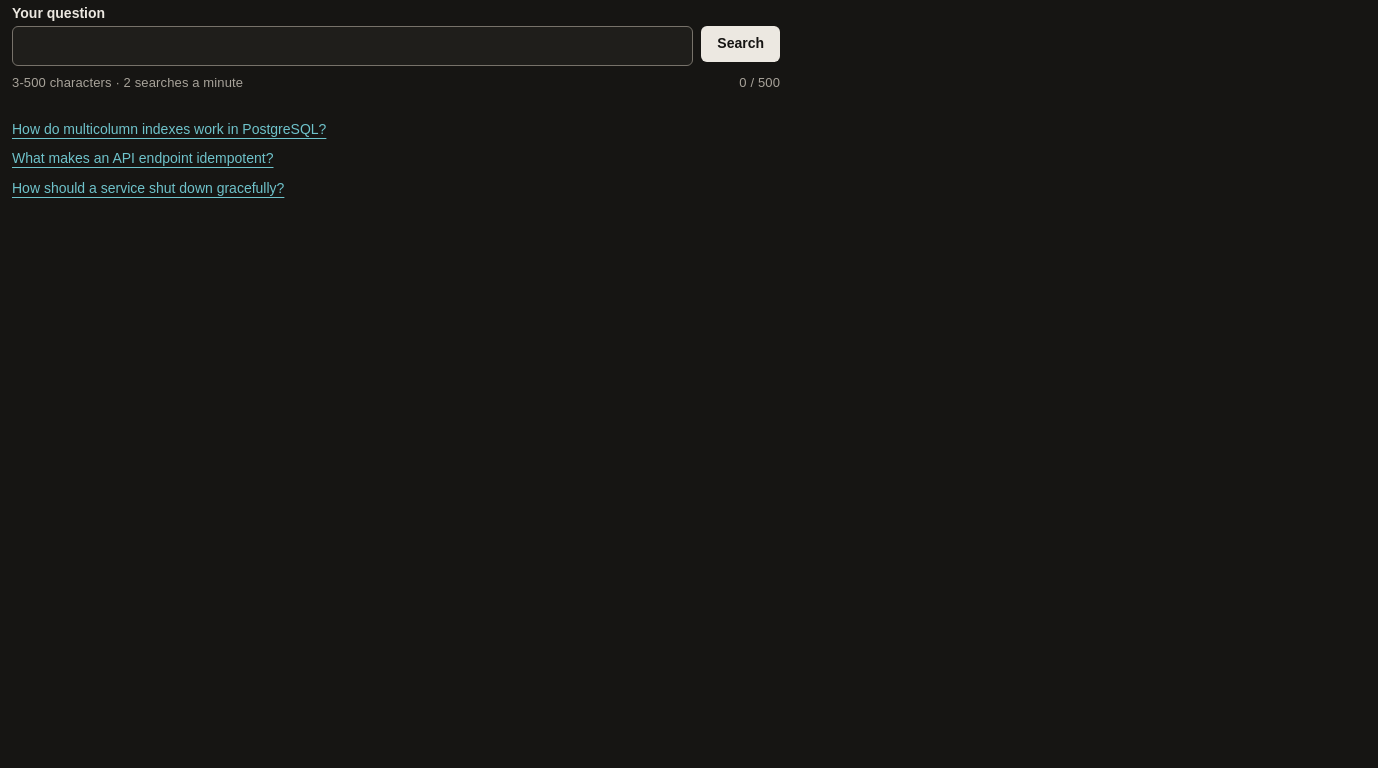
Scenario: limits and off › 429: previous results stay, the wait ticks, Search is disabled until 0, then it says so
This screenshot has width=1378, height=768.
Later steps or results of the test are not shown.
In the search field labelled "Your question": [353, 46] box 12,26 -> 693,66, type "What is a multicolumn index?"
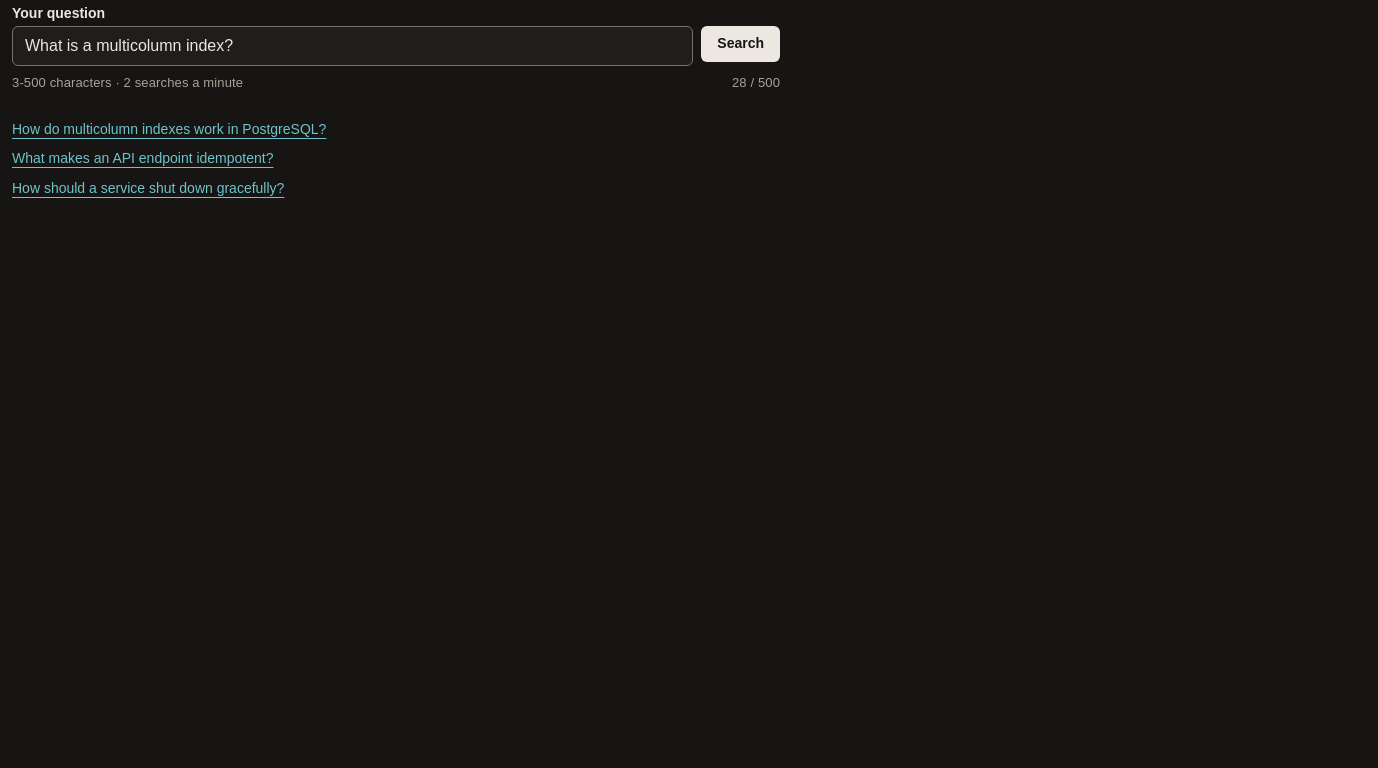
Click the button "Search": [741, 44] box 701,26 -> 780,62
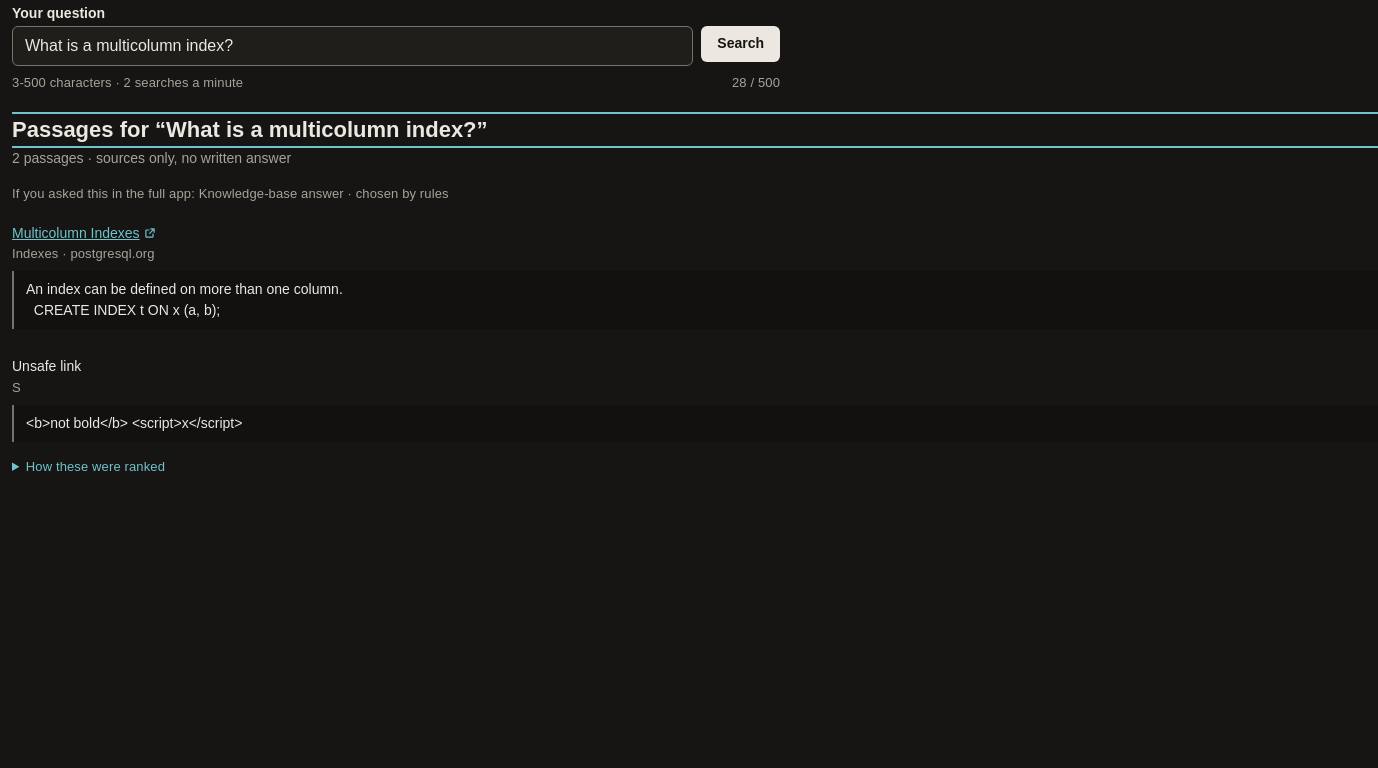
Check: the heading "Passages for “What is a multicolumn index?”" is shown, box 12,117 -> 488,142
Replace the text in the search field labelled "Your question" with "another question": [353, 46] box 12,26 -> 693,66
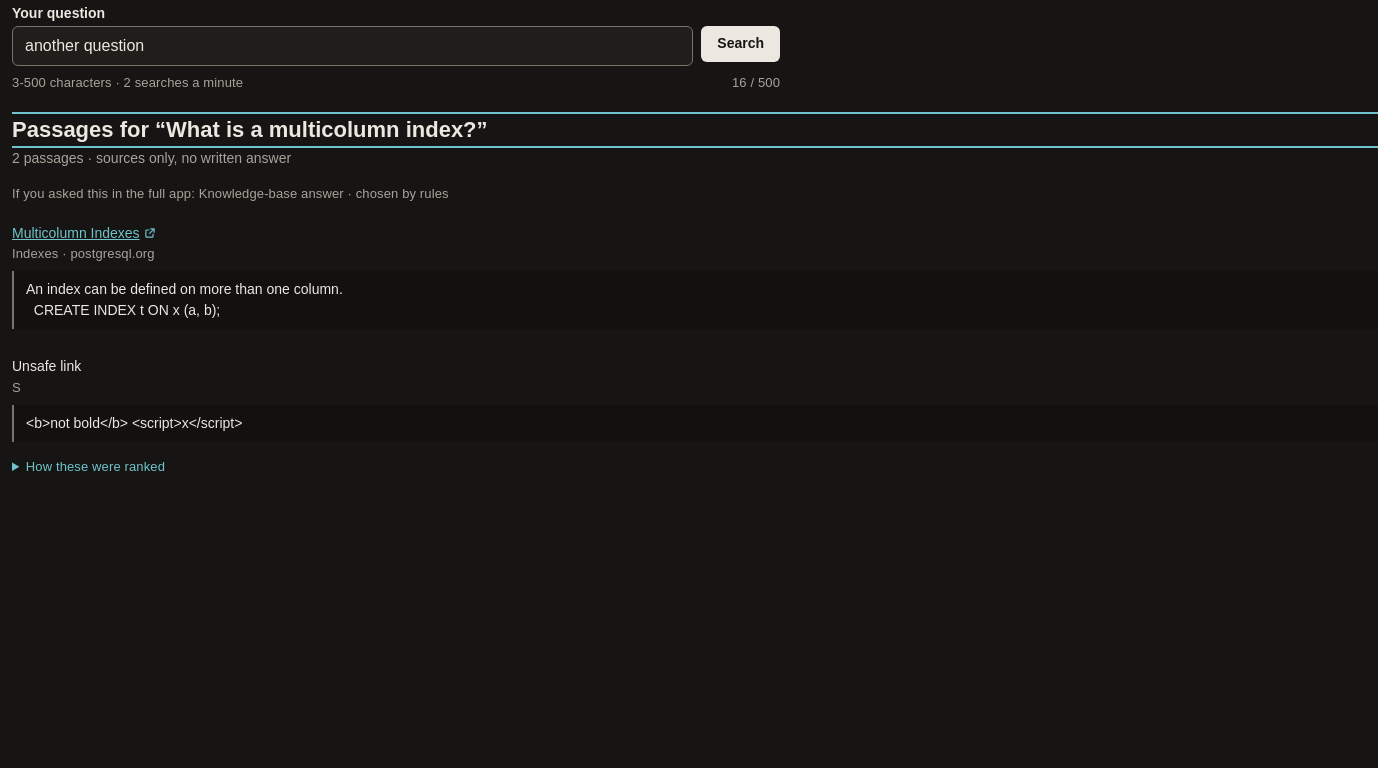
Click the button "Search": [741, 44] box 701,26 -> 780,62
Wait 3000 ms
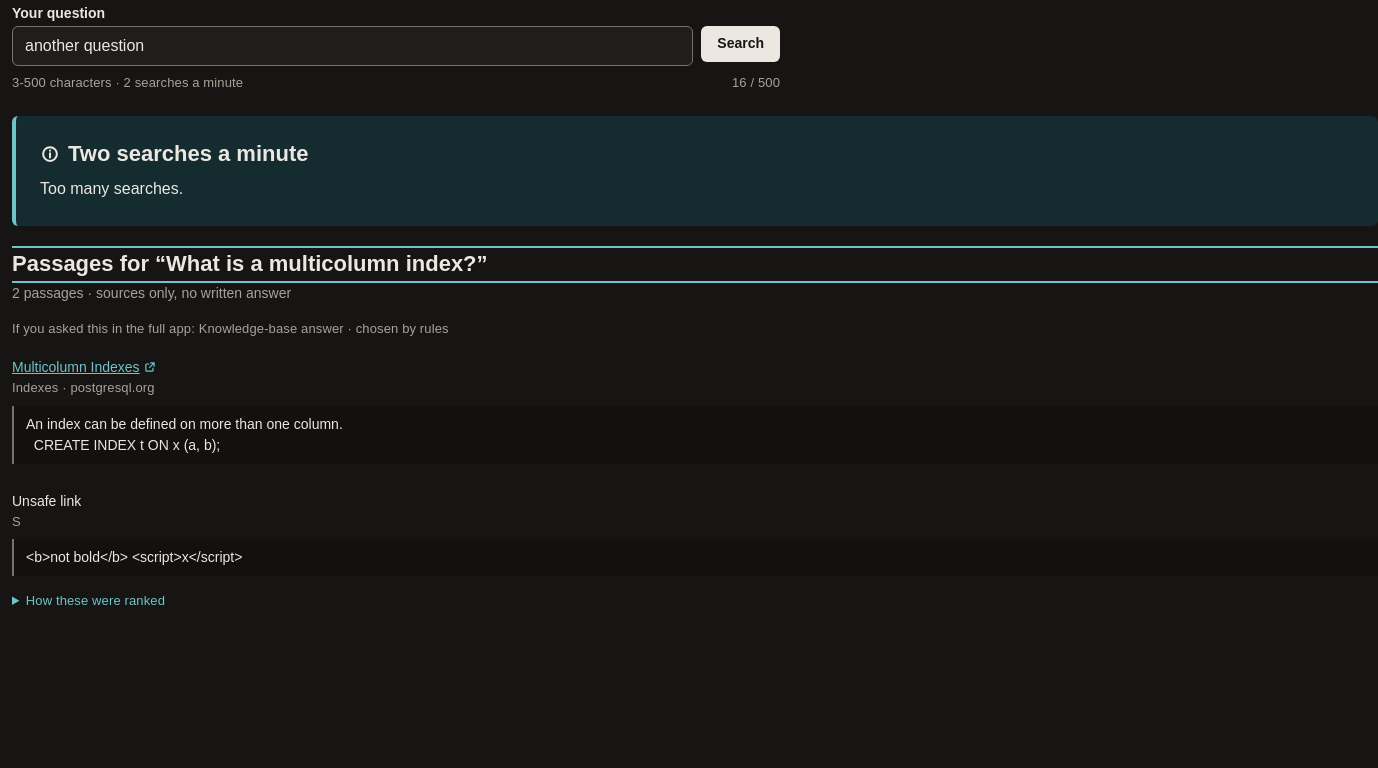
Check: the heading "Passages for “What is a multicolumn index?”" is shown, box 12,251 -> 488,276
Check: the heading "Two searches a minute" is shown, box 68,140 -> 308,168
Check: the text "Too many searches." is shown, box 40,180 -> 183,197
